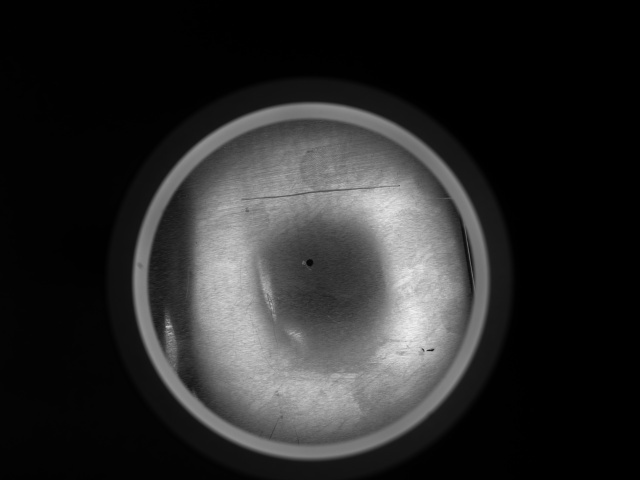ca_shang: (237, 183, 401, 200)
zhen_kong: (304, 254, 318, 270)
